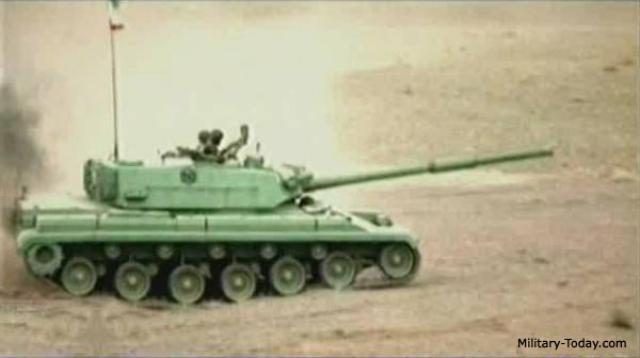other: (206, 128, 222, 154), (196, 128, 206, 147)
tank: (19, 151, 418, 288)
